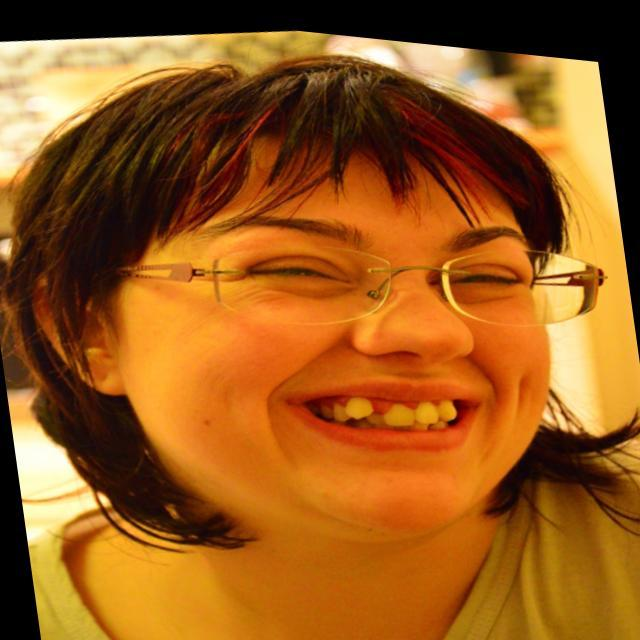Nonhelmet: (2, 51, 637, 562)
